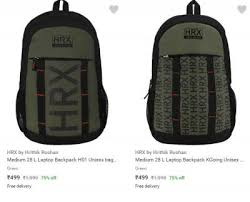backpack: (15, 0, 108, 144), (144, 0, 236, 144)
